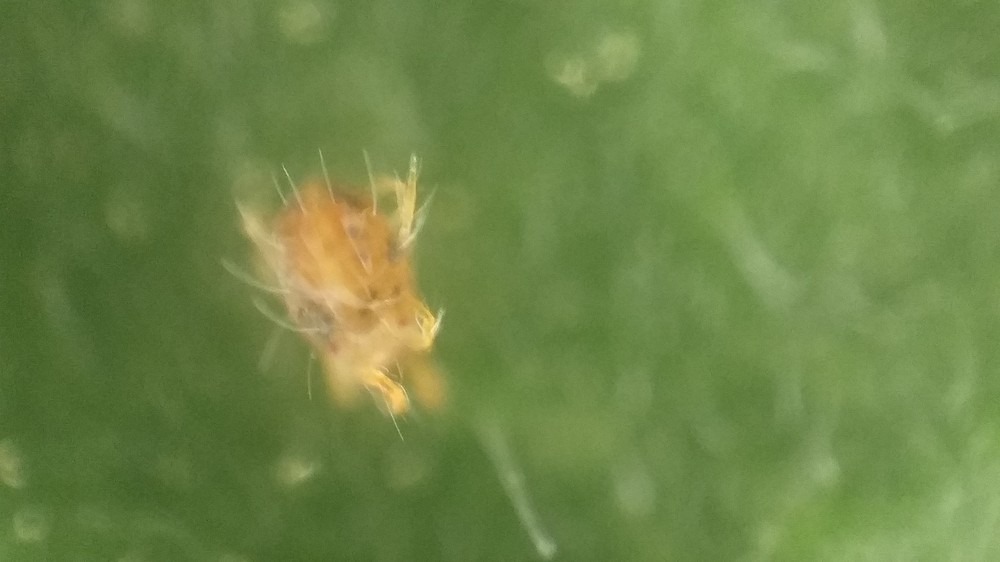Aracnido Rojo: (227, 132, 493, 437)
